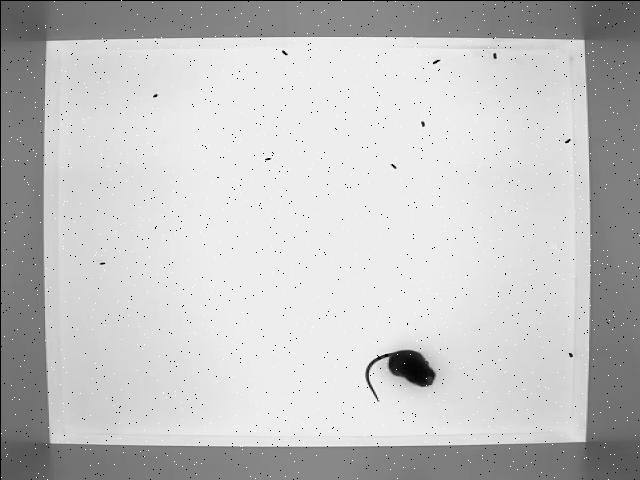Tikus: (361, 345, 438, 405)
